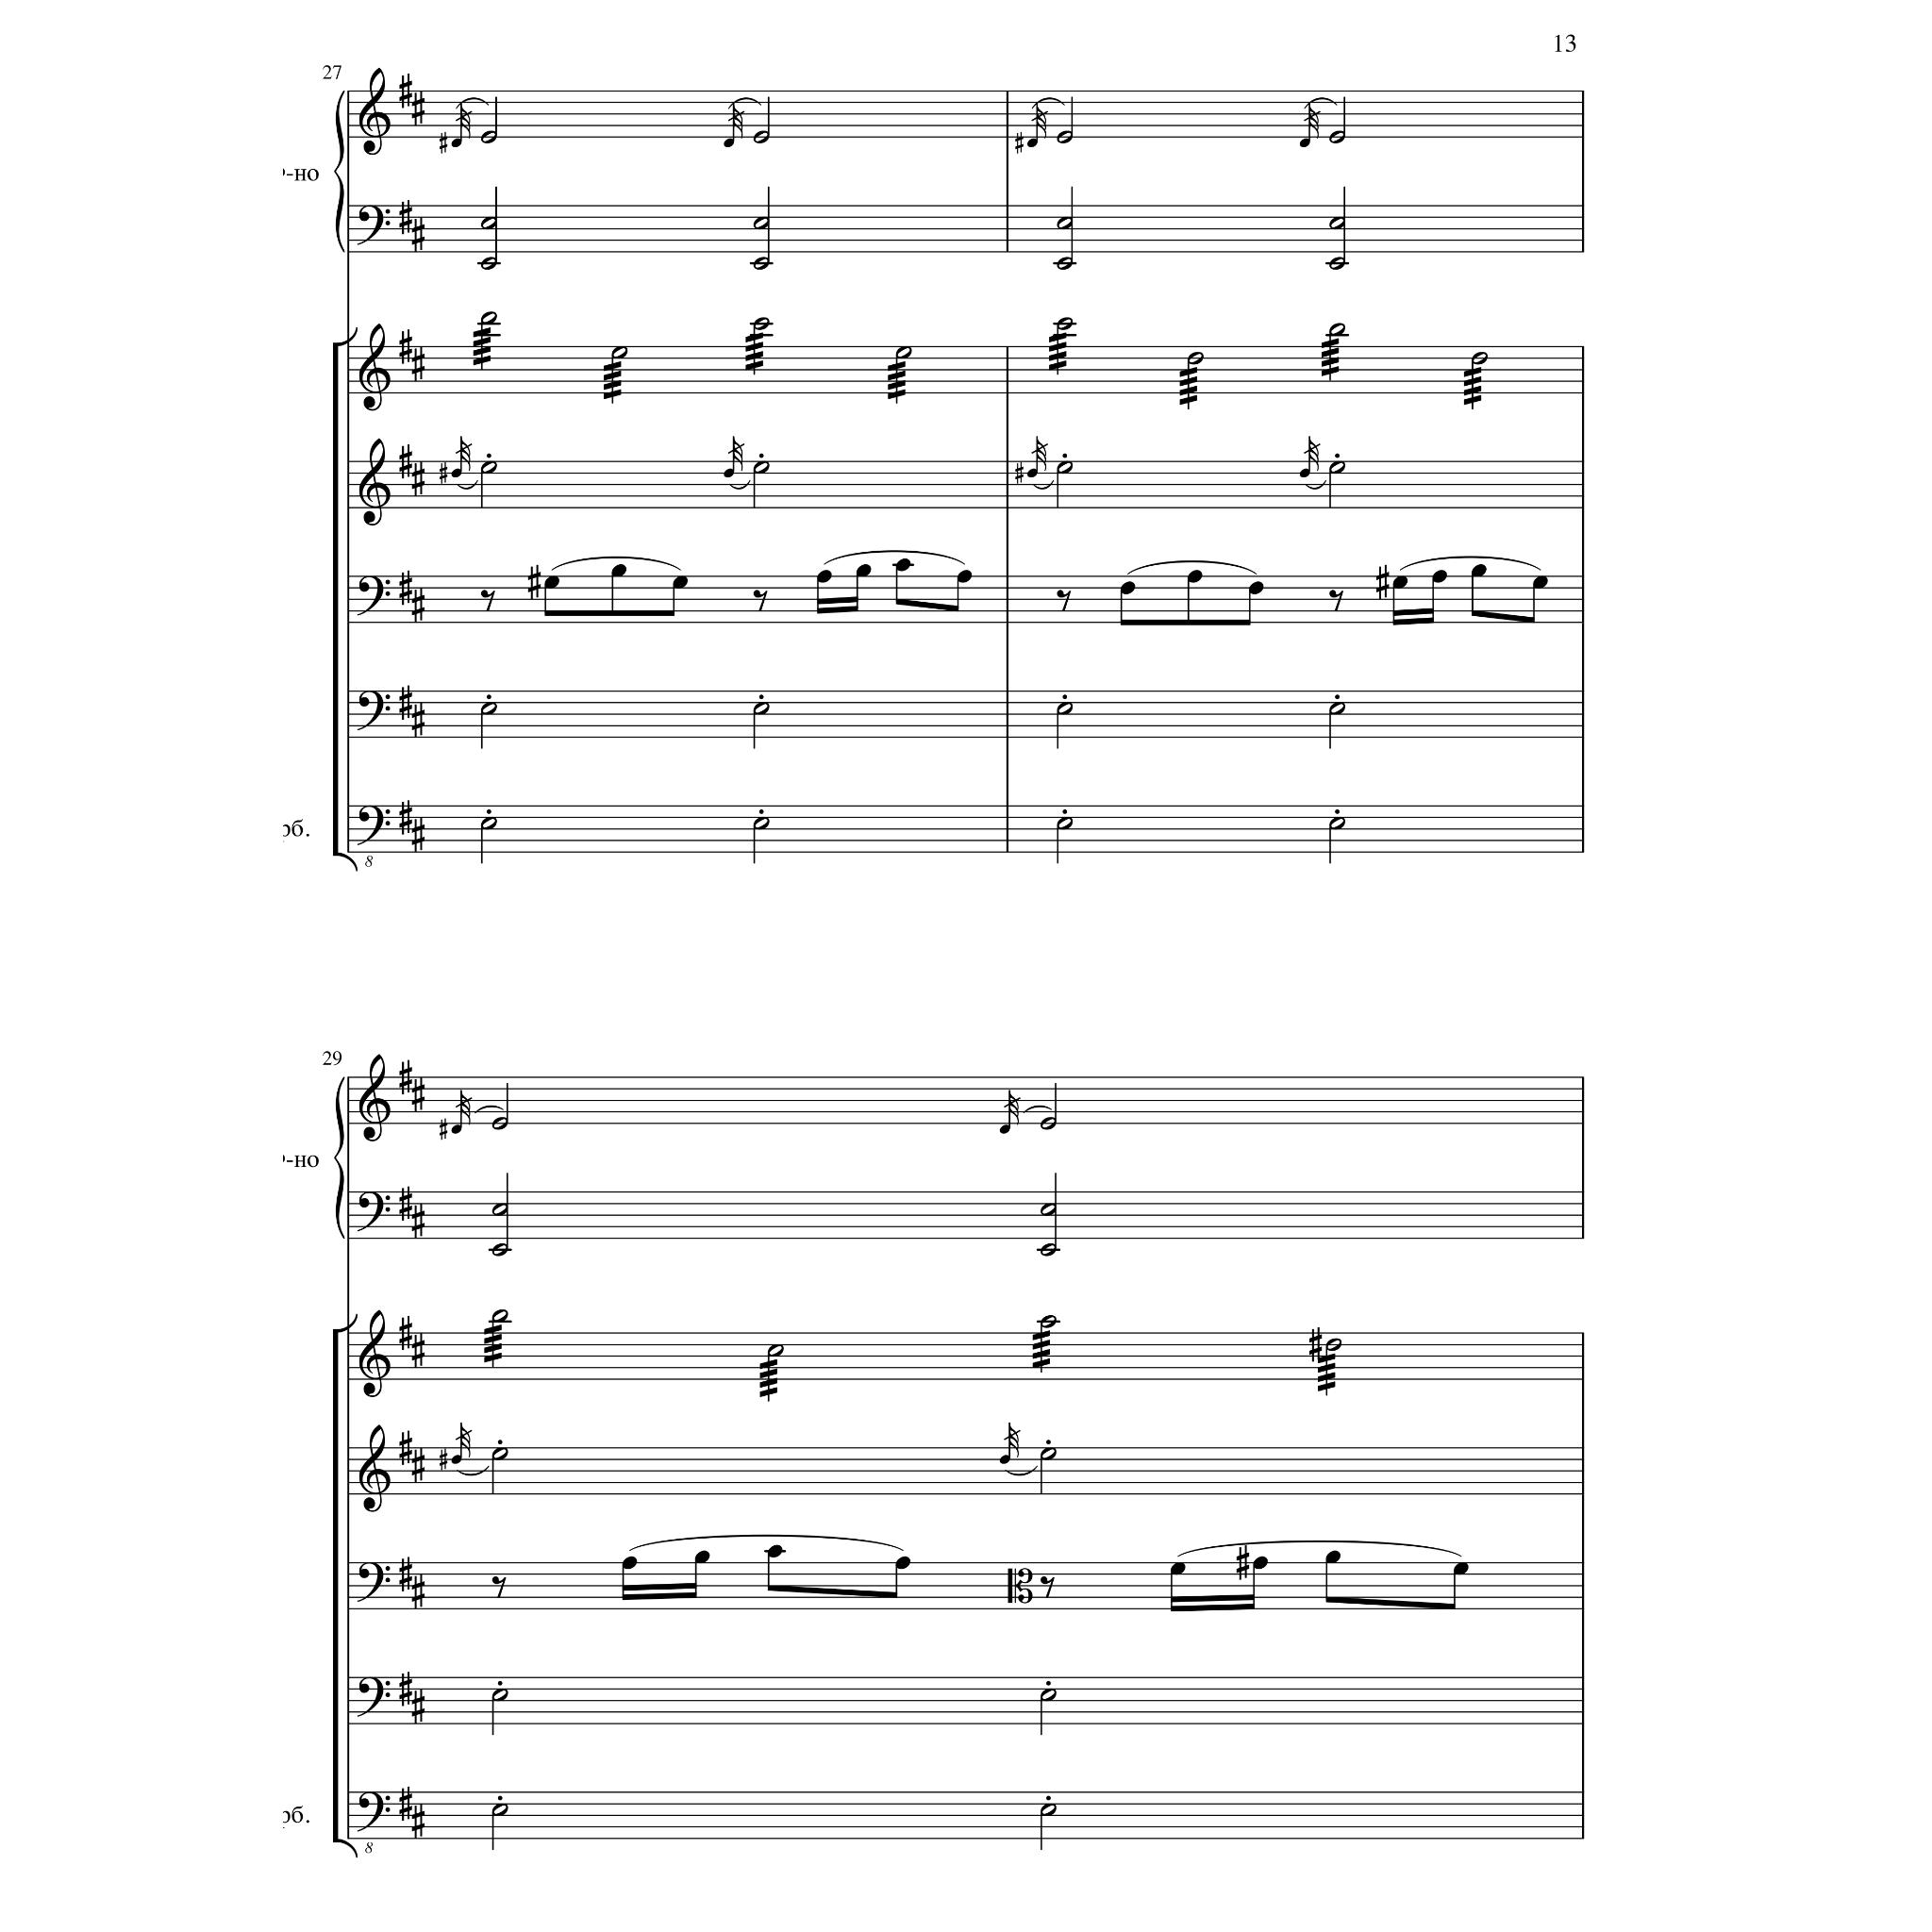brace: (333, 90, 345, 253), (333, 1076, 345, 1238)
fClef: (357, 205, 391, 246), (357, 805, 391, 846), (357, 1677, 391, 1718), (357, 1792, 391, 1833), (357, 1562, 391, 1603), (357, 1192, 391, 1233), (357, 692, 391, 731), (357, 577, 391, 616)
gClef: (359, 437, 391, 527), (359, 67, 391, 156), (359, 324, 391, 412), (359, 1424, 391, 1513), (359, 1309, 391, 1398), (359, 1054, 391, 1143)
noteheadBlack: (816, 570, 833, 584), (1120, 582, 1136, 596), (1187, 570, 1203, 584), (1249, 582, 1265, 596), (1532, 575, 1548, 589), (1431, 570, 1447, 584), (1392, 575, 1408, 589), (543, 575, 559, 589), (955, 570, 971, 584), (672, 575, 688, 589), (1253, 1557, 1269, 1571), (895, 1557, 911, 1571), (621, 1557, 637, 1571), (766, 1545, 782, 1559), (1169, 1562, 1187, 1575), (1472, 564, 1488, 577), (855, 564, 870, 577), (895, 559, 911, 571), (610, 564, 626, 577), (1325, 1552, 1341, 1564), (694, 1552, 709, 1564), (1454, 1562, 1468, 1575), (1299, 138, 1311, 149), (1026, 138, 1039, 149), (722, 138, 734, 149), (451, 138, 462, 149), (1000, 1454, 1010, 1465), (1000, 1123, 1010, 1134), (451, 1454, 462, 1465), (451, 1123, 462, 1134), (1299, 469, 1311, 478), (1026, 469, 1039, 478), (722, 469, 734, 478), (451, 469, 462, 478)
noteheadHalf: (479, 311, 497, 326), (479, 131, 497, 145), (752, 131, 770, 145), (1329, 131, 1345, 145), (1056, 131, 1072, 145), (1329, 324, 1345, 338), (1040, 1116, 1056, 1131), (1040, 1688, 1056, 1702), (1040, 1803, 1056, 1817), (1040, 1315, 1056, 1329), (1325, 1338, 1341, 1352), (492, 1803, 508, 1817), (492, 1688, 508, 1702), (492, 1309, 508, 1323), (492, 1116, 508, 1131), (1470, 352, 1488, 364), (479, 218, 497, 230), (479, 817, 497, 830), (479, 702, 497, 715), (479, 462, 497, 474), (479, 258, 497, 271), (610, 347, 628, 359), (895, 347, 913, 359), (752, 817, 770, 830), (752, 702, 770, 715), (752, 258, 770, 271), (752, 462, 770, 474), (752, 218, 770, 230), (752, 318, 770, 331), (766, 1345, 784, 1357), (1187, 352, 1203, 364), (1329, 258, 1345, 271), (1056, 702, 1072, 715), (1056, 817, 1072, 830), (1056, 462, 1072, 474), (1056, 318, 1072, 331), (1056, 218, 1072, 230), (1056, 258, 1072, 271), (1329, 817, 1345, 830), (1329, 702, 1345, 715), (1329, 462, 1345, 474), (1329, 218, 1345, 230), (1040, 1447, 1056, 1460), (1040, 1203, 1056, 1215), (1040, 1244, 1056, 1256), (492, 1447, 508, 1460), (492, 1203, 508, 1215), (492, 1244, 508, 1256)
rest8th: (479, 589, 495, 612), (752, 589, 768, 612), (1056, 589, 1070, 612), (1329, 589, 1343, 612), (1040, 1576, 1054, 1599), (492, 1576, 506, 1599)
